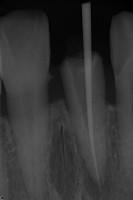Furcation Involvement: (84, 157, 113, 200)
